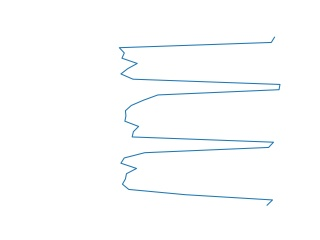majorRiverChannelBar: (117, 37, 284, 206)
